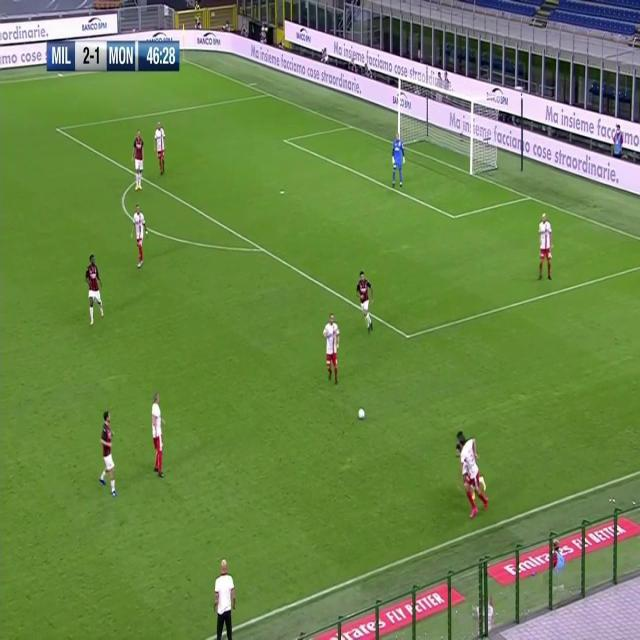ball: (356, 406, 366, 420)
player: (460, 433, 488, 521), (212, 555, 235, 640), (97, 409, 119, 497), (322, 310, 342, 386), (85, 253, 105, 327), (150, 391, 166, 477), (536, 210, 554, 282), (357, 270, 375, 334), (132, 202, 148, 268), (132, 125, 145, 192), (390, 132, 404, 190), (154, 118, 166, 176)
